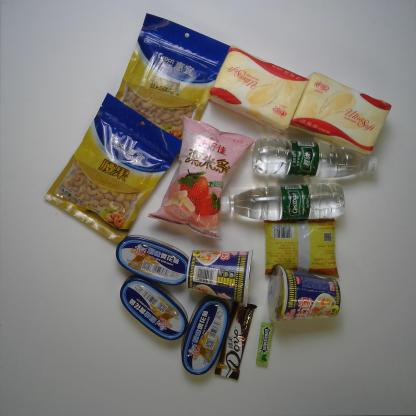Canned Food: (119, 275, 189, 341), (180, 295, 231, 375), (115, 234, 189, 286)
Chocolate: (214, 300, 257, 380)
Dried Fruit: (44, 92, 182, 243), (115, 13, 231, 156)
Drink: (252, 138, 378, 178), (220, 182, 345, 221)
Gum: (256, 322, 274, 366)
Instant Noodles: (267, 265, 341, 323), (186, 249, 254, 304)
Puffed Food: (148, 114, 256, 240)
Seasoner: (263, 219, 340, 278)
Tissue: (209, 44, 309, 134), (288, 71, 392, 156)
